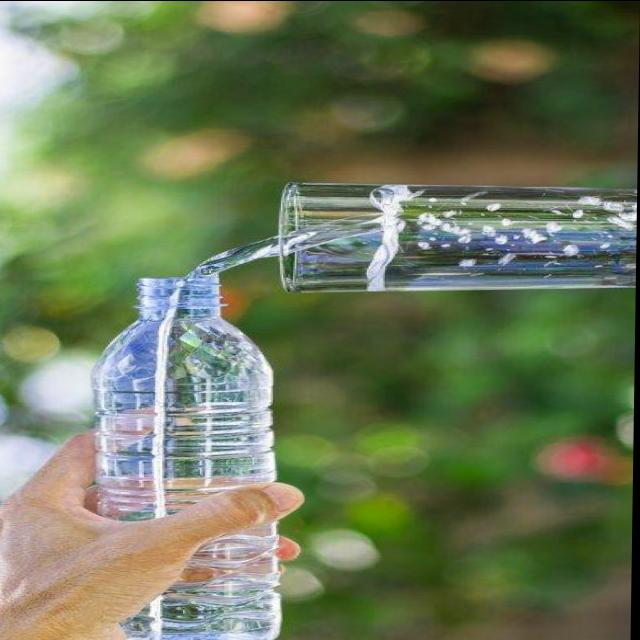bottle: (85, 272, 286, 640)
